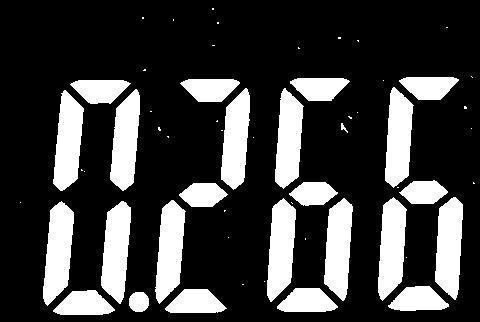0: (39, 75, 142, 316)
2: (153, 76, 253, 314)
6: (375, 73, 466, 313), (266, 74, 353, 313)
dot: (128, 288, 152, 314)
